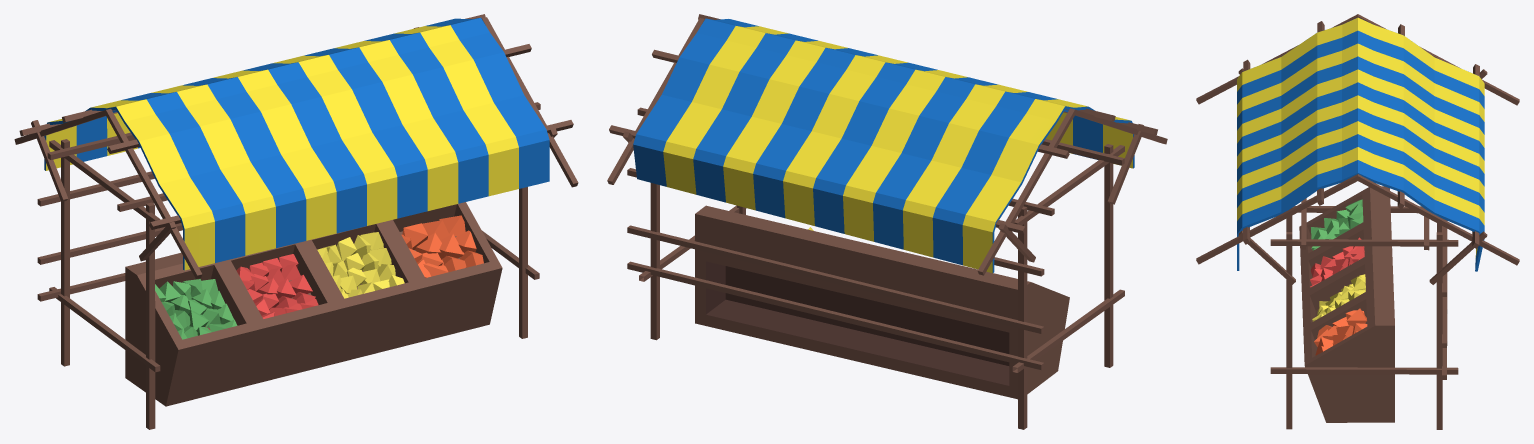
The model's file is prop_051.fbx.
3 renders of one model, left to right at view 1: azimuth 30°, elevation 25°; view 2: azimuth 150°, elevation 25°; view 3: azimuth 270°, elevation 25°, orthographic. The views are drawn at different scales.
Visible parts, largest first — view 1: prop.051; view 2: prop.051; view 3: prop.051.
Boxes of the visible parts, left/top/right/bottom form: prop.051: left=14, top=14, right=578, bottom=429; prop.051: left=607, top=14, right=1167, bottom=429; prop.051: left=1196, top=14, right=1519, bottom=429.
Size of the model in its own units: 862 by 568 by 656.
Materials: 1 (1 with a texture image).
